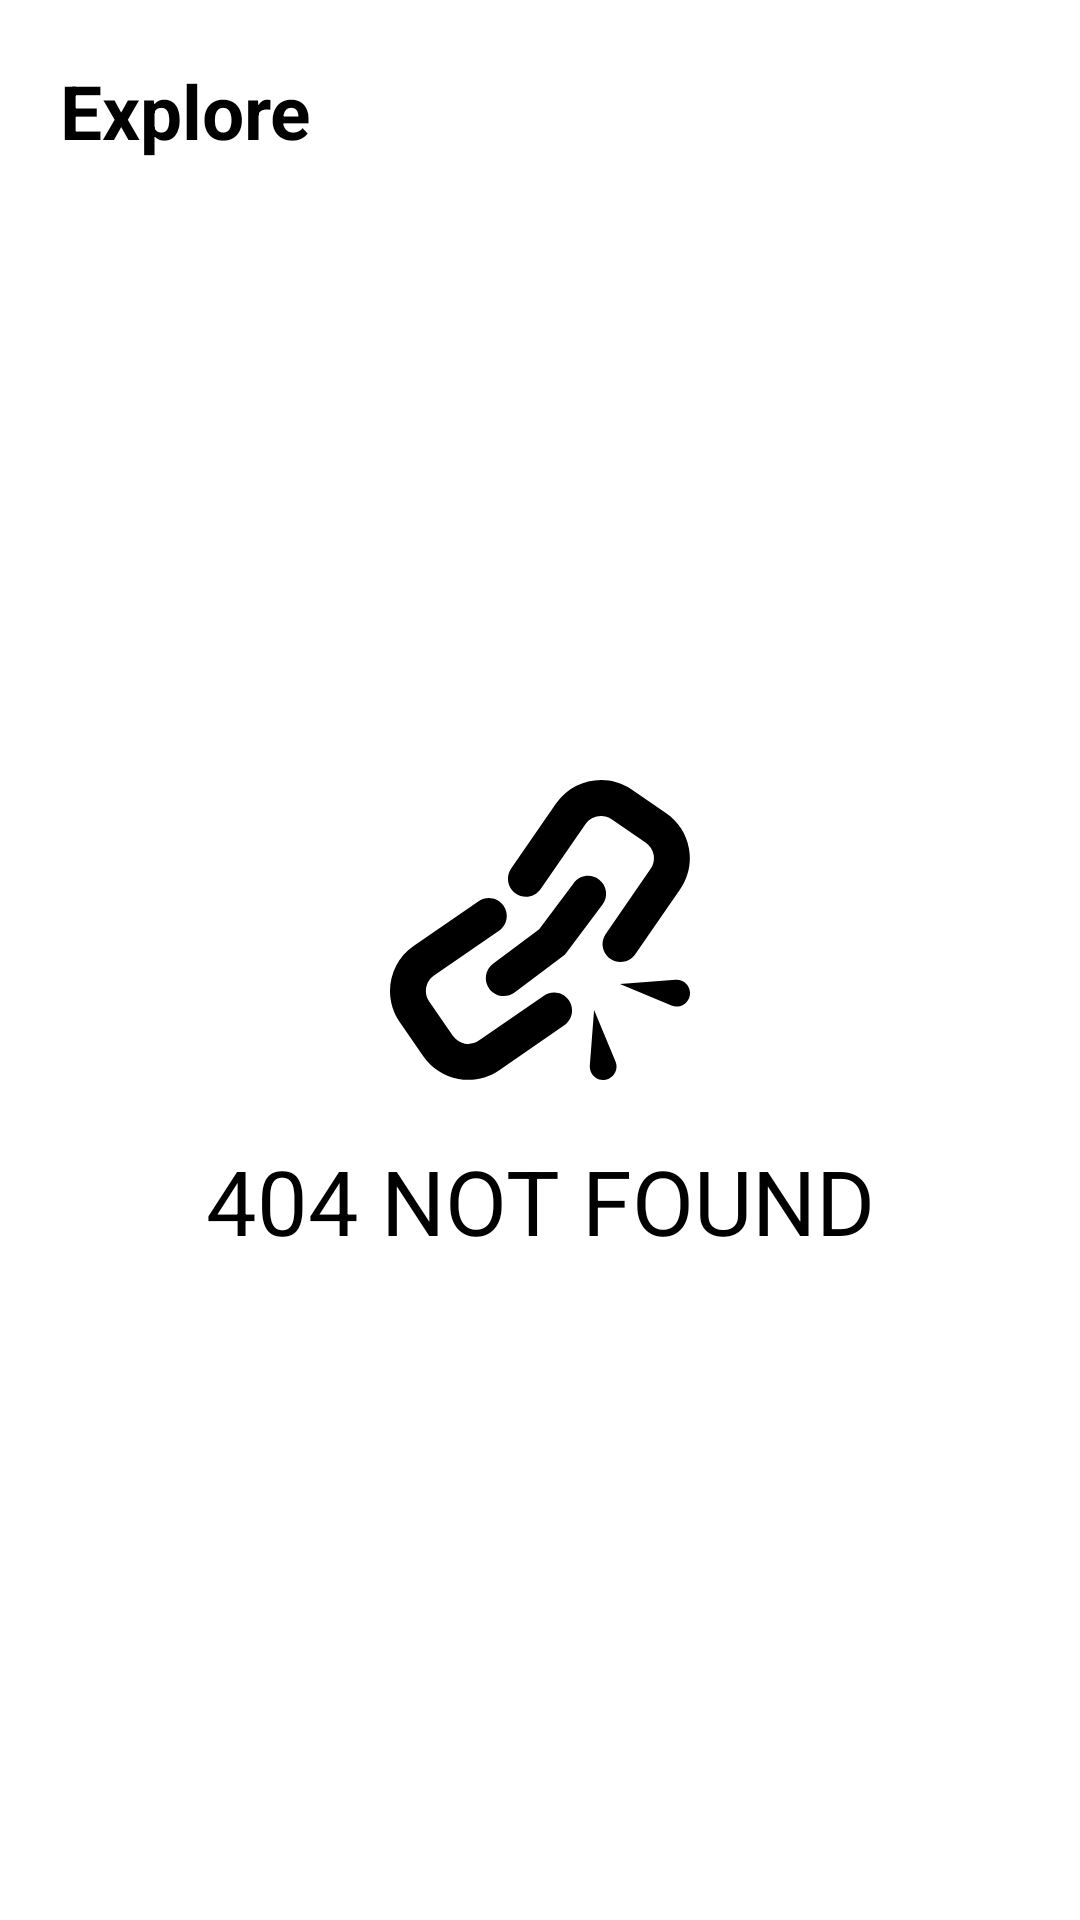

Where icons sit on this 1080w x 1920h app screen, as (x1, y1, x2, y2):
broke: (390, 780, 690, 1080)
